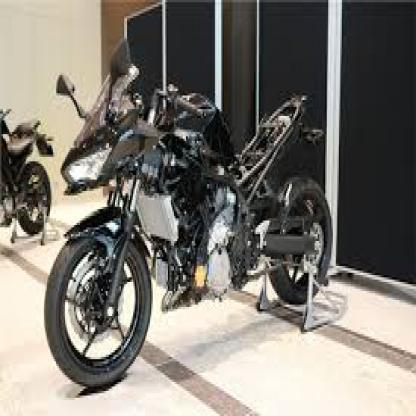Motorcycle: (42, 63, 346, 379)
